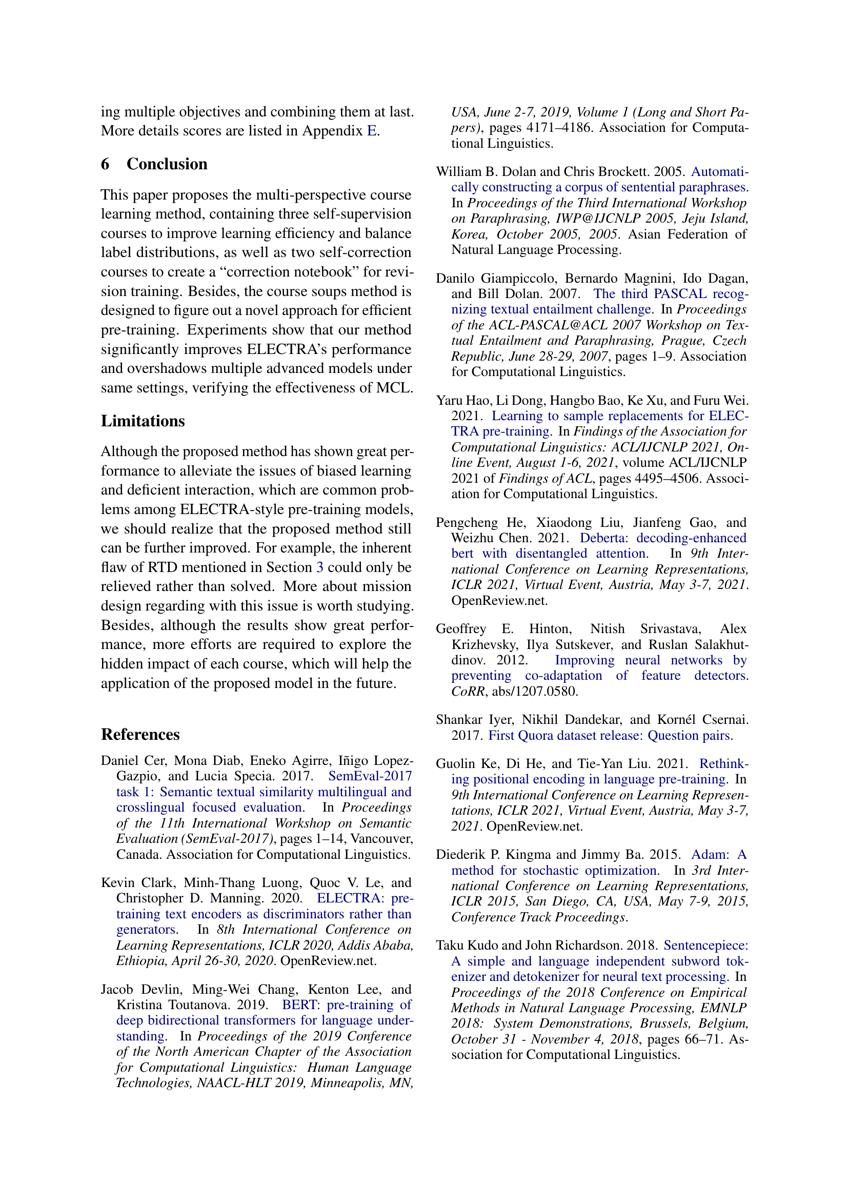text: (430, 99, 753, 611), (430, 617, 753, 1066), (95, 722, 418, 1094), (95, 99, 418, 400), (95, 409, 418, 697)
